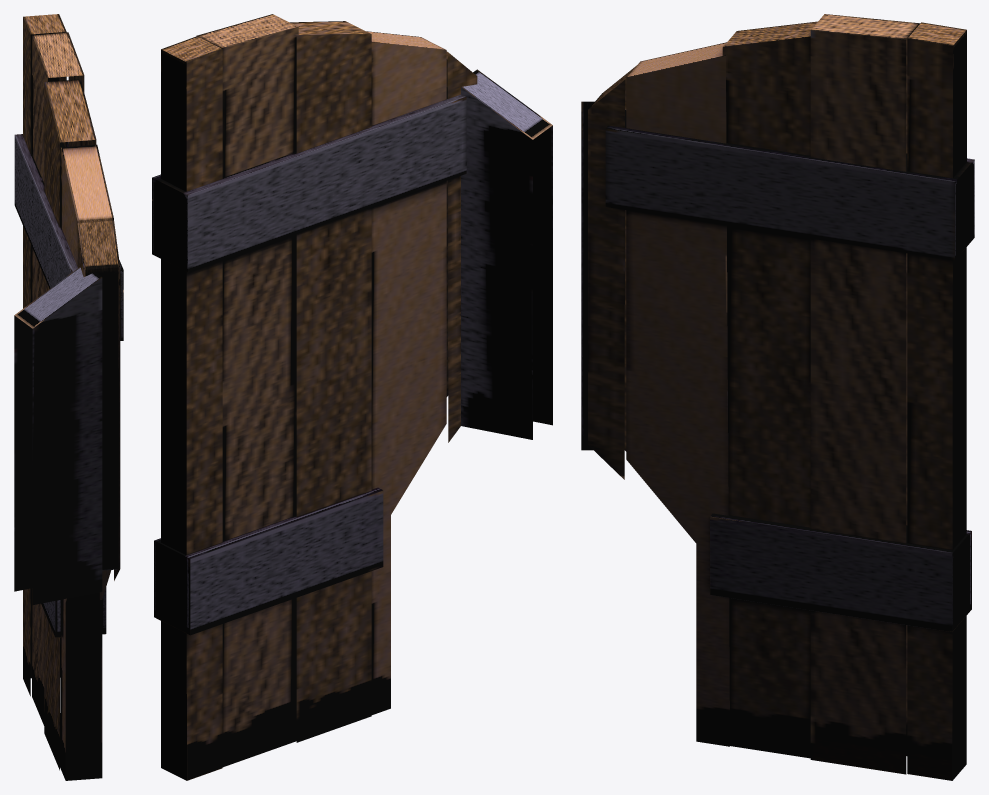
File: DoorSide2F7.obj
3 views of the same model, side by side, from view 1: azimuth 30°, elevation 25°; view 2: azimuth 150°, elevation 25°; view 3: azimuth 270°, elevation 25° (orthographic). The views are drawn at different scales.
Parts seen in each view (by area): view 1: DoorSide2F7_Cube.429; view 2: DoorSide2F7_Cube.429; view 3: DoorSide2F7_Cube.429.
Boxes of the visible parts, x1,y1,x2,y2 form: DoorSide2F7_Cube.429: [14, 14, 123, 780]; DoorSide2F7_Cube.429: [152, 14, 552, 780]; DoorSide2F7_Cube.429: [581, 14, 974, 780].
Size of the model in its own units: 56.76 by 179 by 86.56.
1 material, 1 textured.
